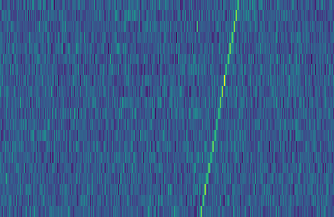signal: (197, 0, 245, 217)
